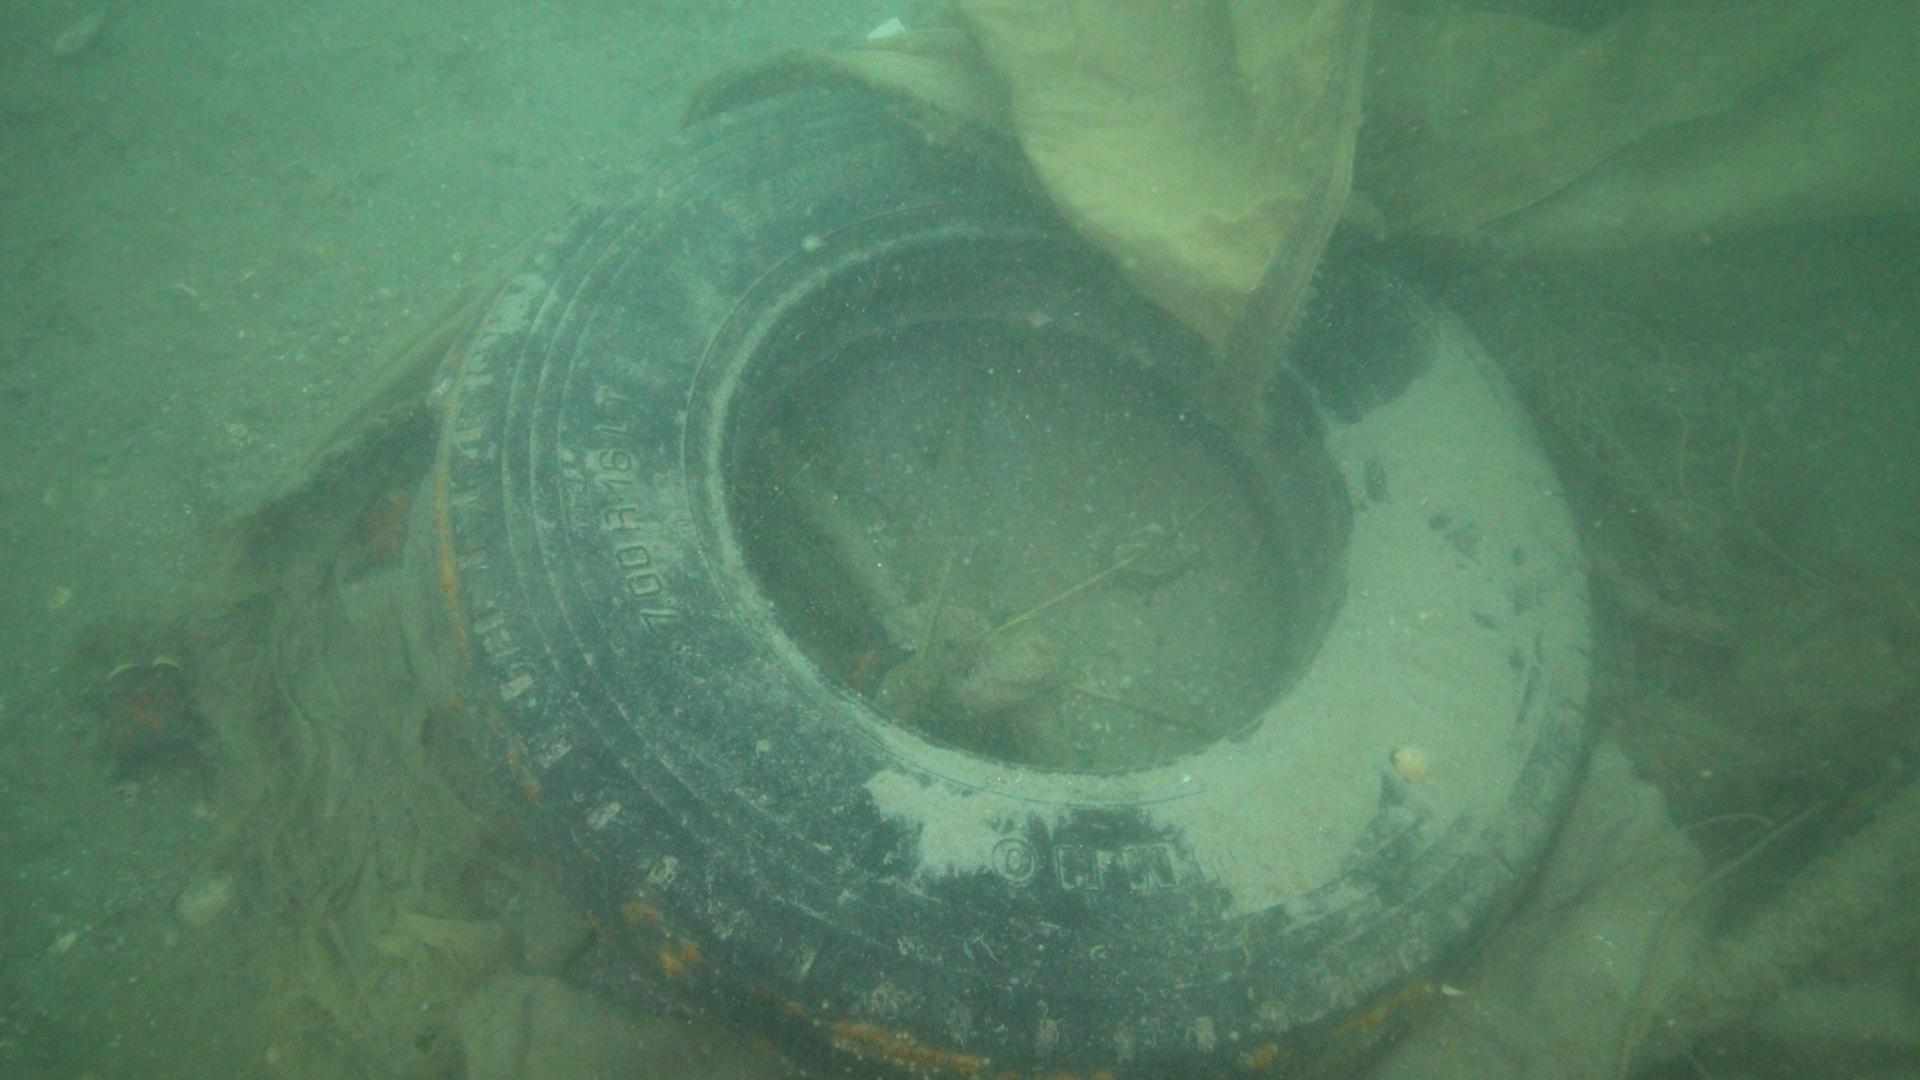tire: (438, 88, 1600, 1080)
